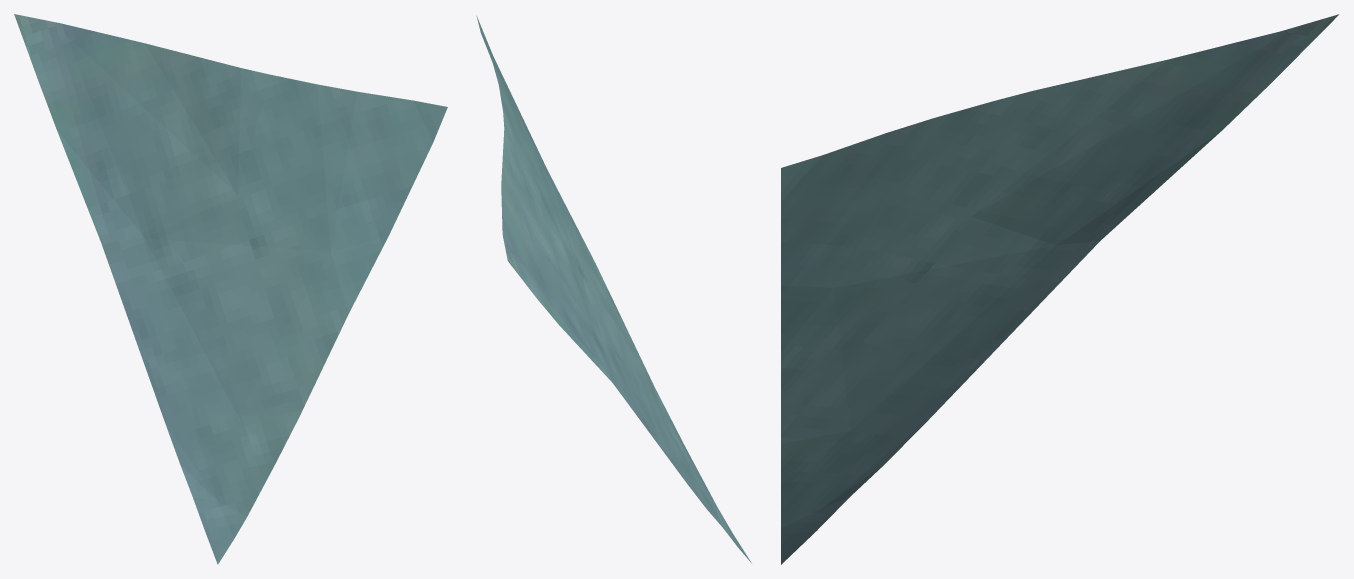
The picture shows the model from 3 angles, left to right: view 1: azimuth 30°, elevation 25°; view 2: azimuth 150°, elevation 25°; view 3: azimuth 270°, elevation 25°; orthographic projection. The views are drawn at different scales.
Size of the model in its own units: 15.17 by 25.31 by 23.27.
1 material, 1 textured.
